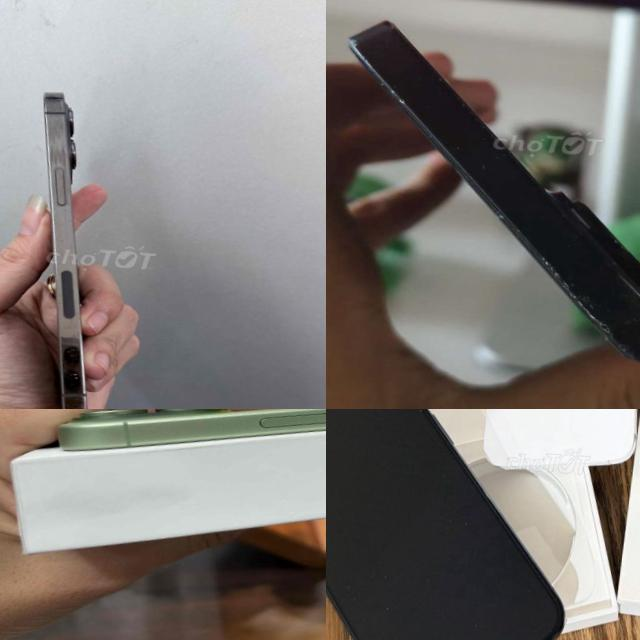gen_12_13: (8, 84, 129, 409)
gen_14: (326, 0, 640, 376)
gen_15: (326, 409, 587, 640)
gen_17: (57, 409, 326, 451)
scratch: (507, 247, 640, 373), (342, 24, 409, 106), (426, 66, 492, 121)
